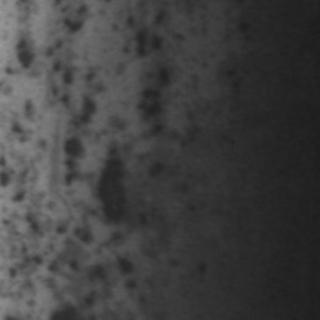pitted_surface: (0, 5, 220, 315)
